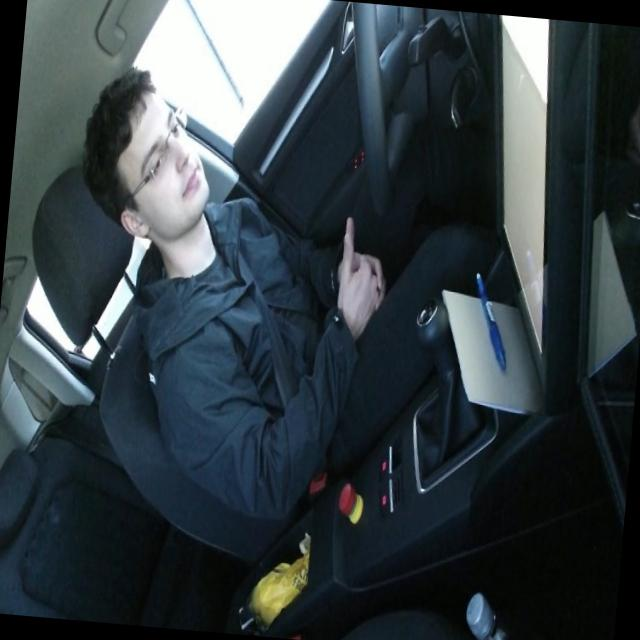pen: (466, 268, 514, 372)
